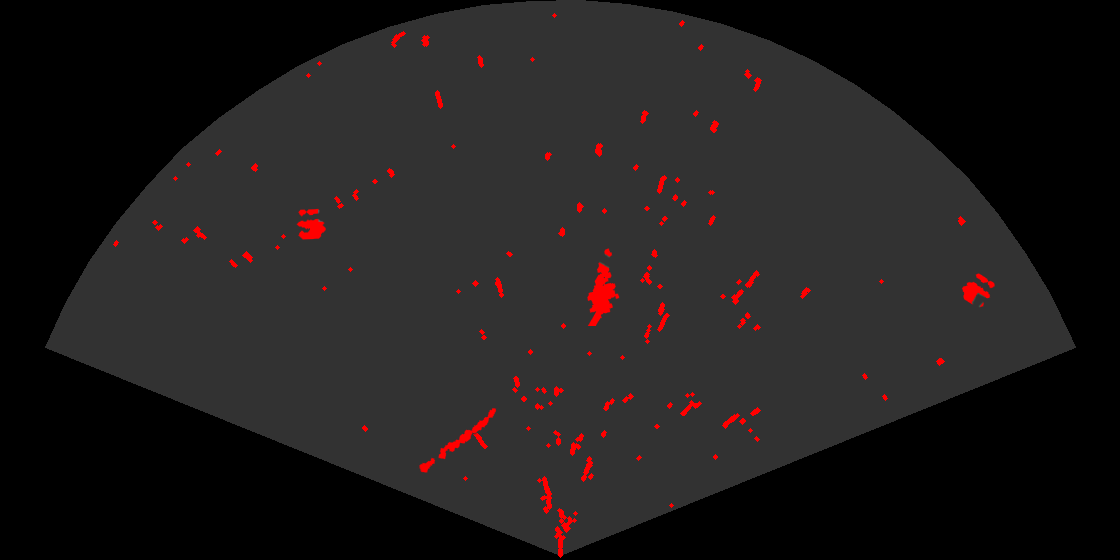ball: (960, 272, 996, 309), (295, 207, 327, 241)
chain: (417, 406, 498, 474)
frogman: (586, 247, 621, 326)
